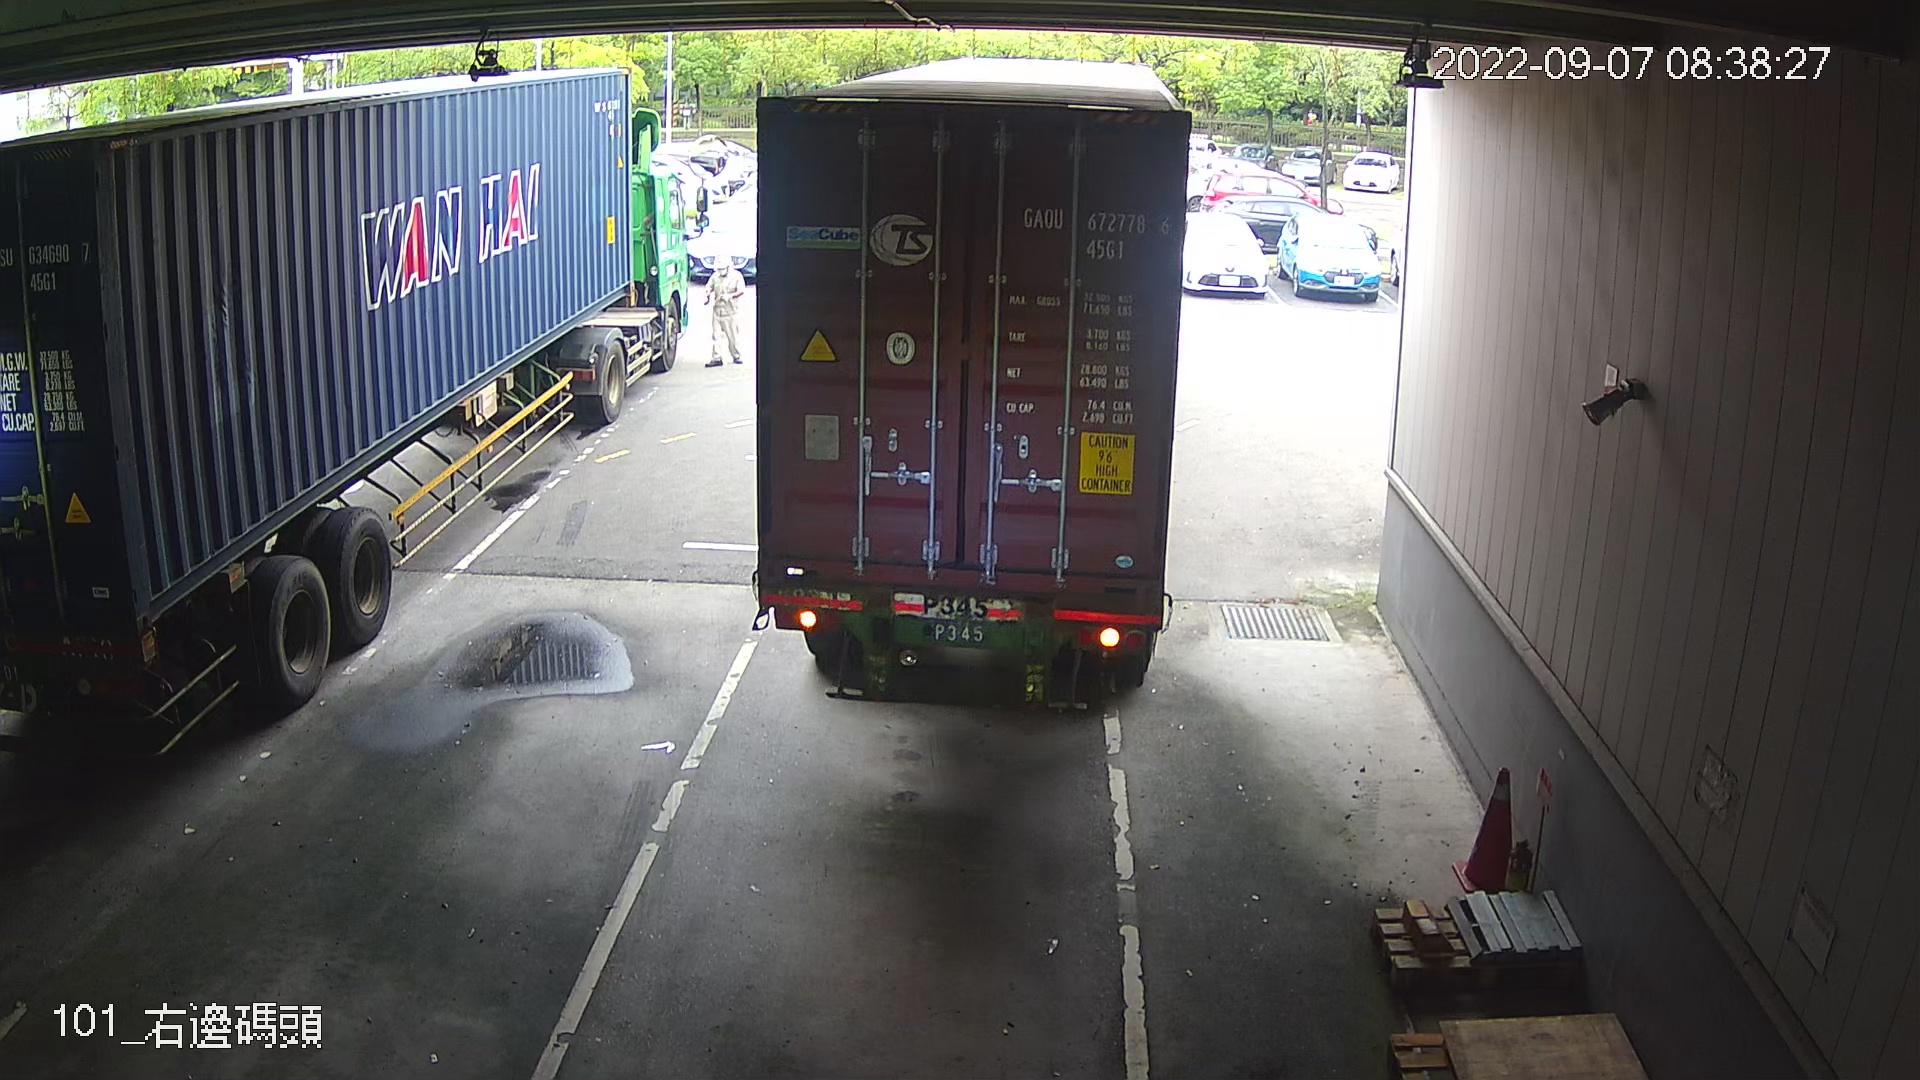container: (1011, 199, 1182, 268)
